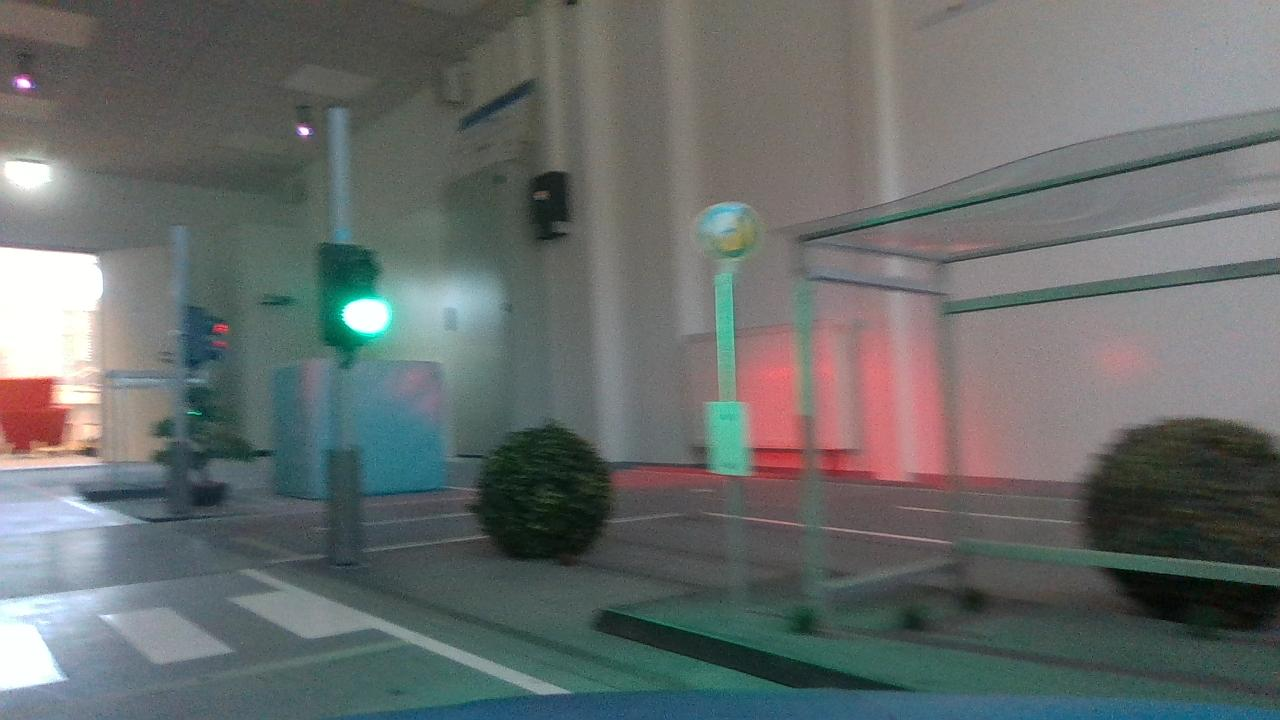traffic_light_green: (303, 238, 404, 365)
